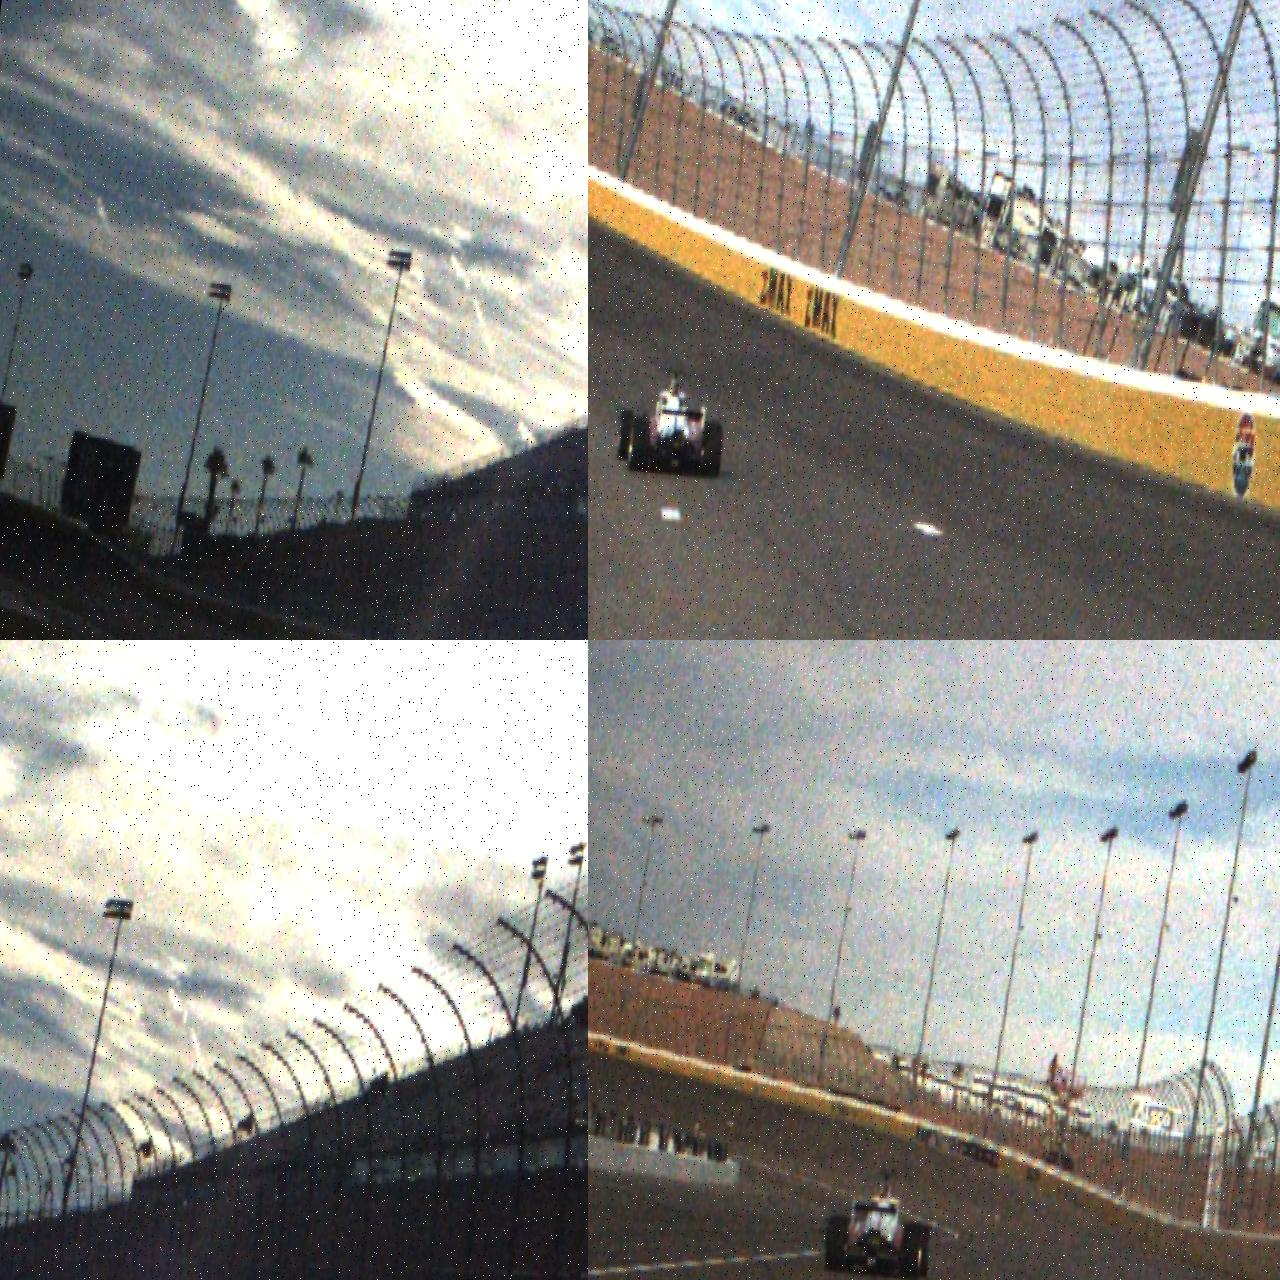AV: (613, 362, 730, 479), (822, 1165, 938, 1280)
Wheel: (823, 1214, 849, 1274), (701, 418, 726, 481), (898, 1221, 924, 1280), (627, 414, 652, 472), (615, 408, 635, 462)
